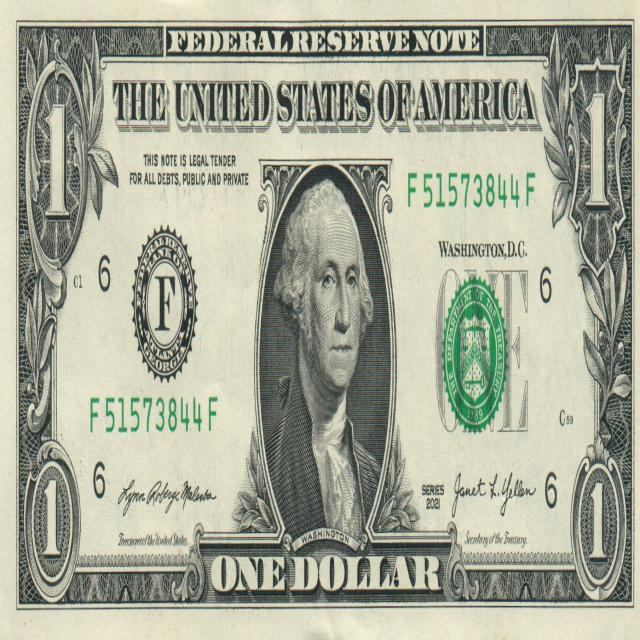SerialNumber: (90, 396, 217, 433), (408, 172, 520, 208)
